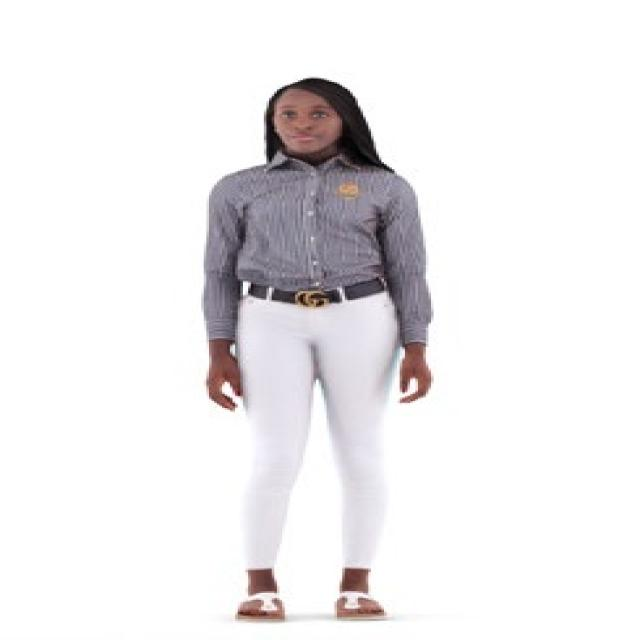standing: (203, 72, 448, 628)
